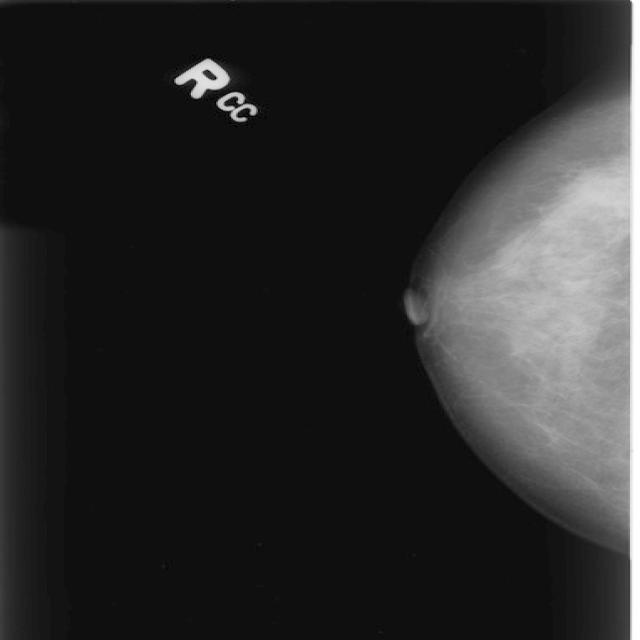tumour: (571, 172, 627, 210)
